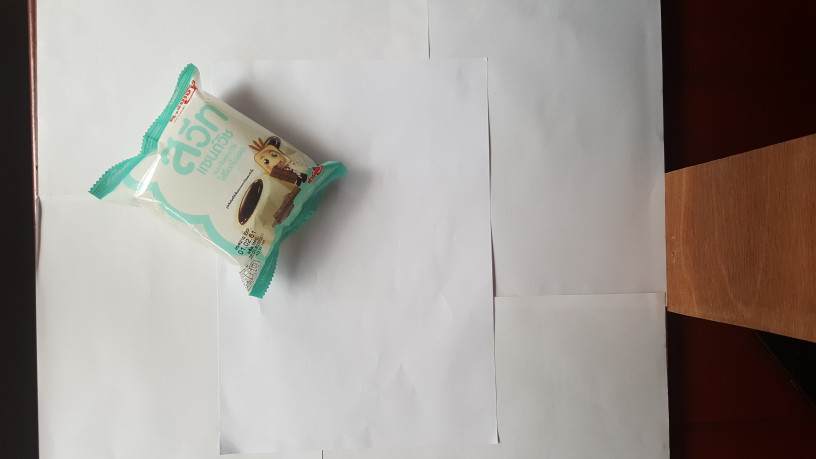farmhouse-sweetsandwich-chocolate: (82, 61, 353, 304)
